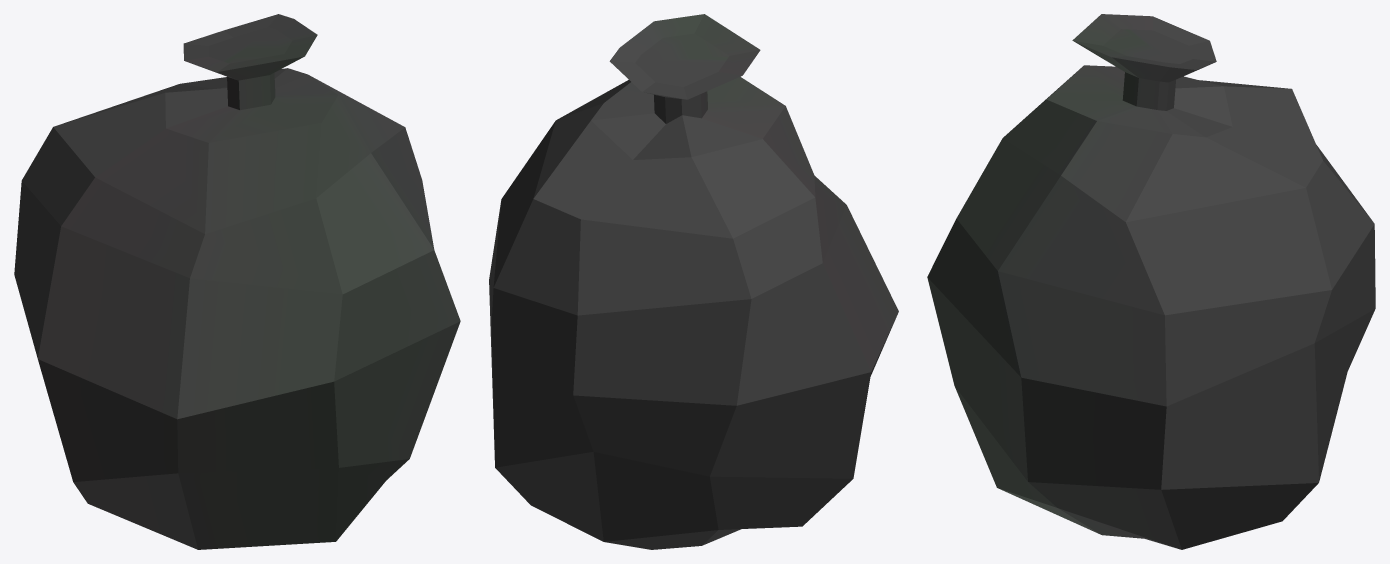
Rendered from TrashBag.fbx.
3 views of the same model, side by side, from view 1: azimuth 30°, elevation 25°; view 2: azimuth 150°, elevation 25°; view 3: azimuth 270°, elevation 25° (orthographic). The views are drawn at different scales.
Visible parts, largest first — view 1: TrashBag; view 2: TrashBag; view 3: TrashBag.
Boxes of the visible parts, x1=… form: TrashBag: x1=14, y1=14, x2=460, y2=549; TrashBag: x1=489, y1=14, x2=898, y2=549; TrashBag: x1=927, y1=14, x2=1375, y2=549.
Bounding box in the file's own units: 159 × 184 × 158.
